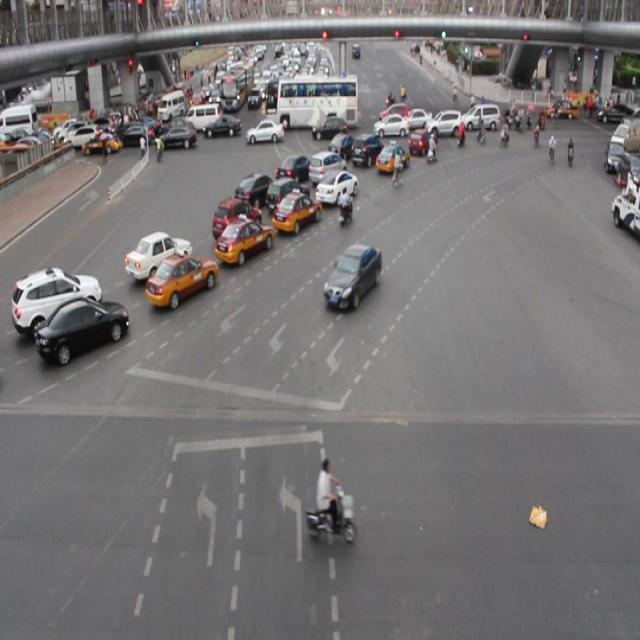car: (12, 265, 103, 326), (35, 294, 130, 352), (146, 252, 219, 309), (322, 242, 382, 310), (123, 229, 194, 278), (214, 217, 276, 263), (212, 194, 265, 240), (271, 188, 322, 230), (266, 175, 311, 211), (314, 170, 359, 206), (307, 148, 347, 186), (235, 173, 276, 207), (349, 132, 383, 167), (276, 153, 314, 184), (374, 142, 410, 174), (406, 126, 438, 158), (328, 131, 358, 164)
